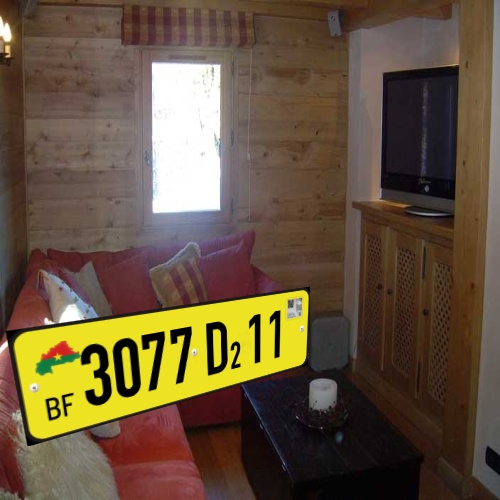plate: (8, 278, 328, 449)
